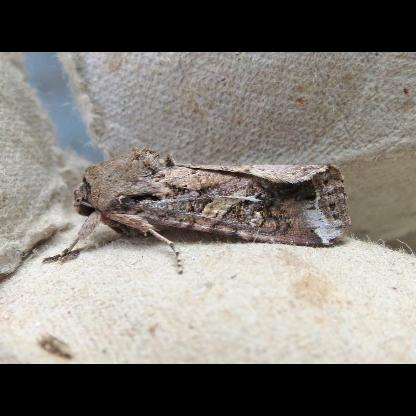Fall Armyworm Moth: (38, 141, 354, 277)
